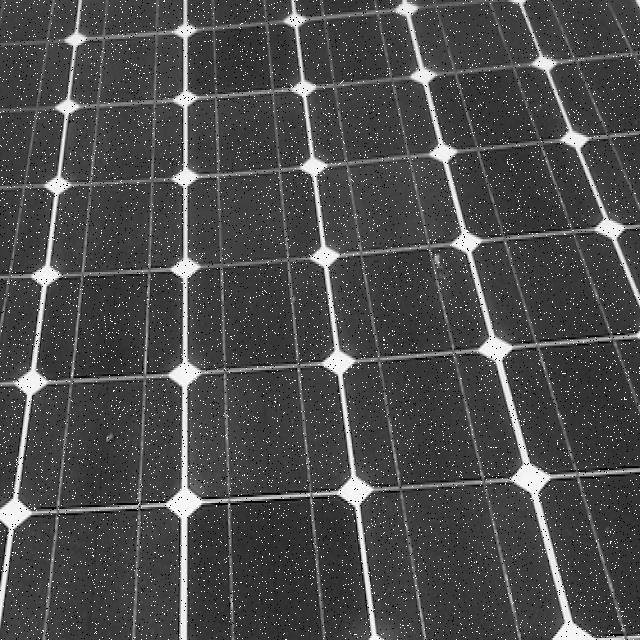electrical damage: (40, 161, 326, 376)
